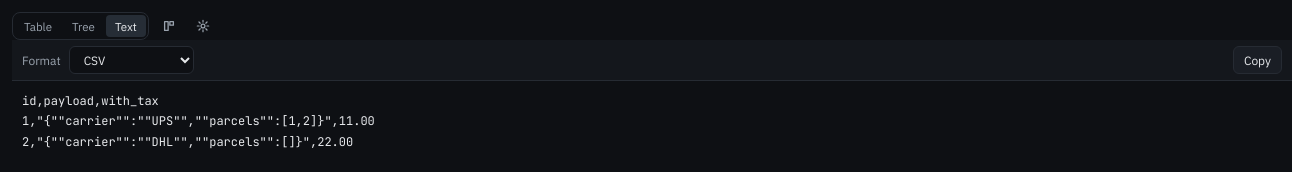
Test: Text view › shows CSV with a header and Copy copies it (spec: data-grid › Text view as CSV)
Click the button "Copy". click: coordinates (1257, 60)
box: [1233,46,1282,74]
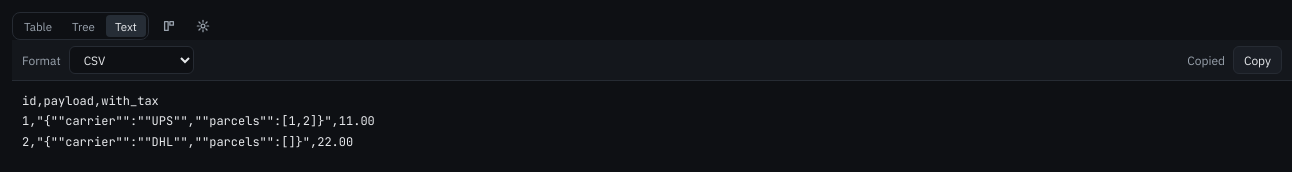
Expected: the message reads "Copied", [1187,52,1225,68]
